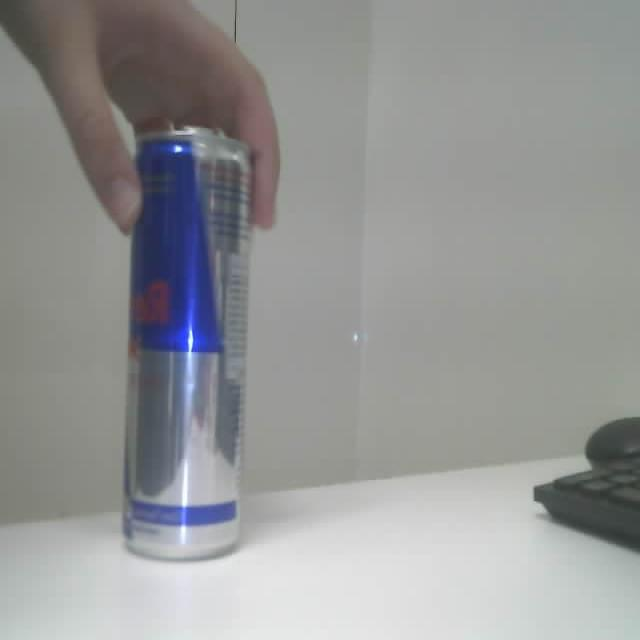redbull can: (123, 127, 250, 558)
